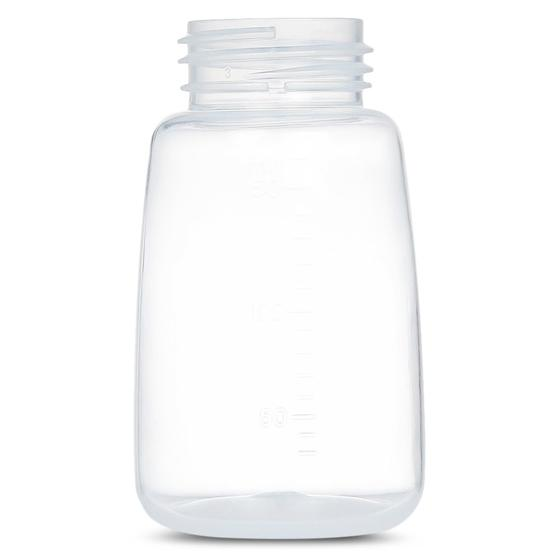milk: (114, 5, 469, 543)
